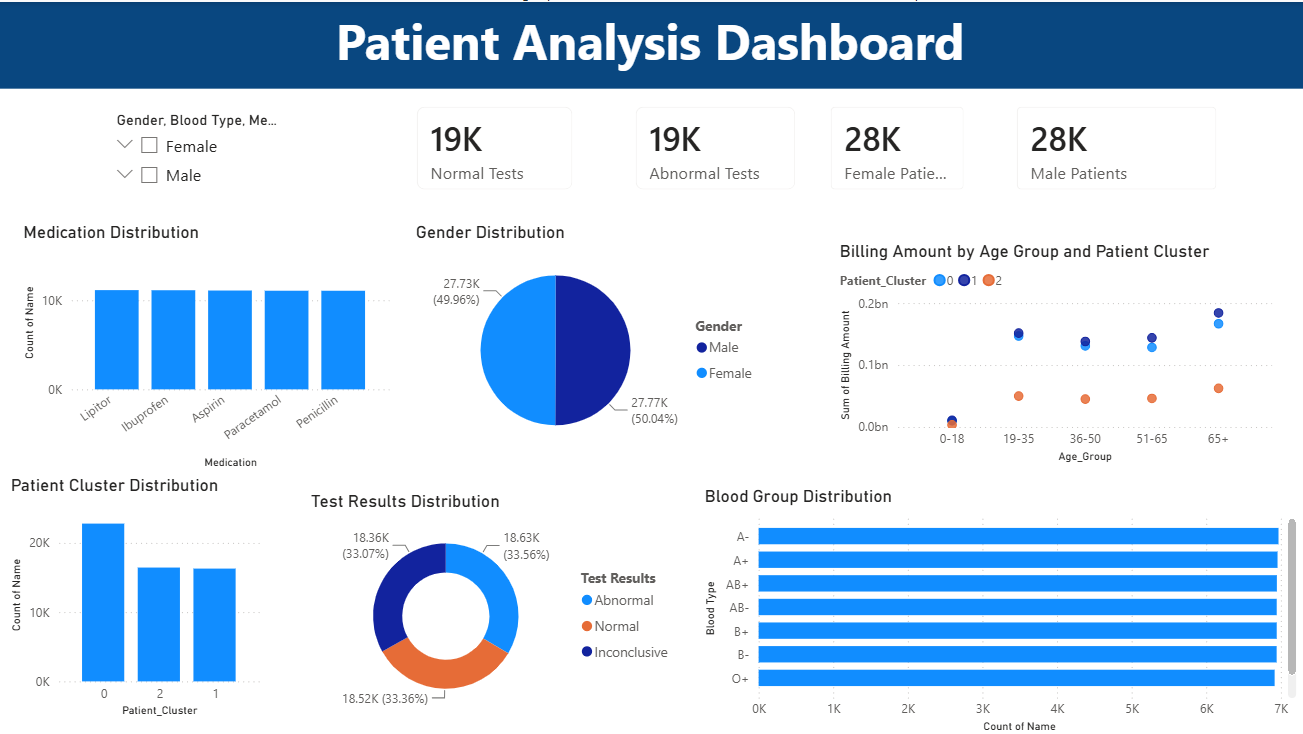

The page's visual inventory and layout, read from the dashboard file:
{"tool":"powerbi","page":{"name":"Patient Analysis Dashboard","canvas":[1280,720],"ordinal":2},"visuals":[{"type":"cardVisual","fields":{"Data":["healthcare_analytics_final.Female Patients"]},"box":[799.3,85.1,164.5,115.4],"z":0},{"type":"cardVisual","fields":{"Data":["healthcare_analytics_final.Male Patients"]},"box":[982.5,85.1,229.4,115.4],"z":1000},{"type":"cardVisual","fields":{"Data":["healthcare_analytics_final.Normal Tests"]},"box":[395.3,85.1,186.1,115.4],"z":2000},{"type":"cardVisual","fields":{"Data":["healthcare_analytics_final.Abnormal Tests"]},"box":[608.8,85.1,190.4,115.4],"z":3000},{"type":"textbox","box":[0,0,1279.7,85.1],"z":4000},{"type":"pieChart","title":"Gender Distribution","fields":{"Category":["healthcare_analytics_final.Gender"],"Y":["CountNonNull(healthcare_analytics_final.Name)"]},"box":[405.4,215,349.1,232.3],"z":5000},{"type":"barChart","title":"Blood Group Distribution","fields":{"Category":["healthcare_analytics_final.Blood Type"],"Y":["CountNonNull(healthcare_analytics_final.Name)"]},"box":[688.2,473.2,588.6,246.7],"z":6000},{"type":"donutChart","title":"Test Results Distribution","fields":{"Category":["healthcare_analytics_final.Test Results"],"Y":["CountNonNull(healthcare_analytics_final.Name)"]},"box":[303,477.6,367.9,226.5],"z":6001},{"type":"columnChart","title":"Medication Distribution","fields":{"Category":["healthcare_analytics_final.Medication"],"Y":["CountNonNull(healthcare_analytics_final.Name)"]},"box":[21.6,215,367.9,246.7],"z":6002},{"type":"columnChart","title":"Patient Cluster Distribution","fields":{"Category":["healthcare_analytics_final.Patient_Cluster"],"Y":["CountNonNull(healthcare_analytics_final.Name)"]},"box":[10.1,461.7,253.9,242.4],"z":6003},{"type":"scatterChart","title":"Billing Amount by Age Group and Patient Cluster","fields":{"Y":["Sum(healthcare_analytics_final.Billing Amount)"],"Series":["healthcare_analytics_final.Patient_Cluster"],"X":["healthcare_analytics_final.Age_Group"]},"box":[820.9,233.7,432.8,222.2],"z":6004},{"type":"slicer","fields":{"Values":["healthcare_analytics_final.Gender","healthcare_analytics_final.Blood Type","healthcare_analytics_final.Medical Condition"]},"box":[105.3,101,197.7,99.6],"z":6005}]}

Visuals, with their boxes in screenshot pixels (x1, y1, x2, y2), scaled from the page's 1280x720 canvas onto the 1303x734 screenshot:
cardVisual - healthcare_analytics_final.Female Patients: 814, 87, 981, 204
cardVisual - healthcare_analytics_final.Male Patients: 1000, 87, 1234, 204
cardVisual - healthcare_analytics_final.Normal Tests: 402, 87, 592, 204
cardVisual - healthcare_analytics_final.Abnormal Tests: 620, 87, 814, 204
textbox: 0, 0, 1302, 87
"Gender Distribution" pieChart: 413, 219, 768, 456
"Blood Group Distribution" barChart: 701, 482, 1300, 733
"Test Results Distribution" donutChart: 308, 487, 683, 718
"Medication Distribution" columnChart: 22, 219, 396, 471
"Patient Cluster Distribution" columnChart: 10, 471, 269, 718
"Billing Amount by Age Group and Patient Cluster" scatterChart: 836, 238, 1276, 465
slicer - healthcare_analytics_final.Gender x healthcare_analytics_final.Blood Type: 107, 103, 308, 205
